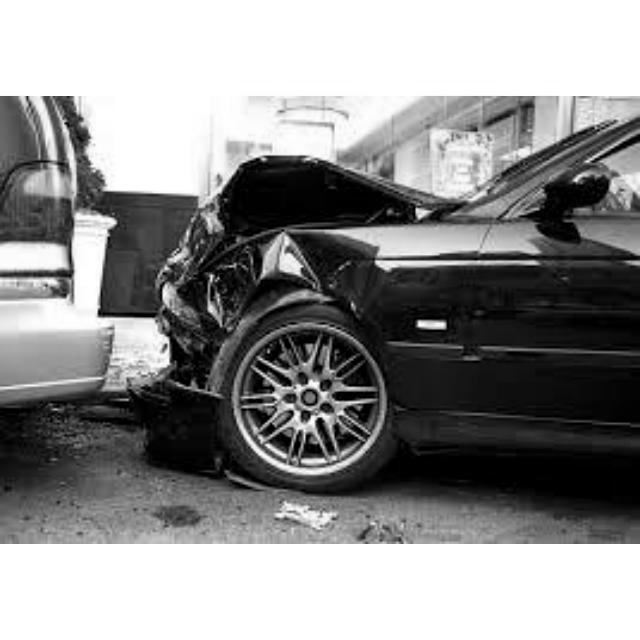bonnet-dent: (182, 156, 449, 222)
fender-dent: (177, 223, 415, 335)
